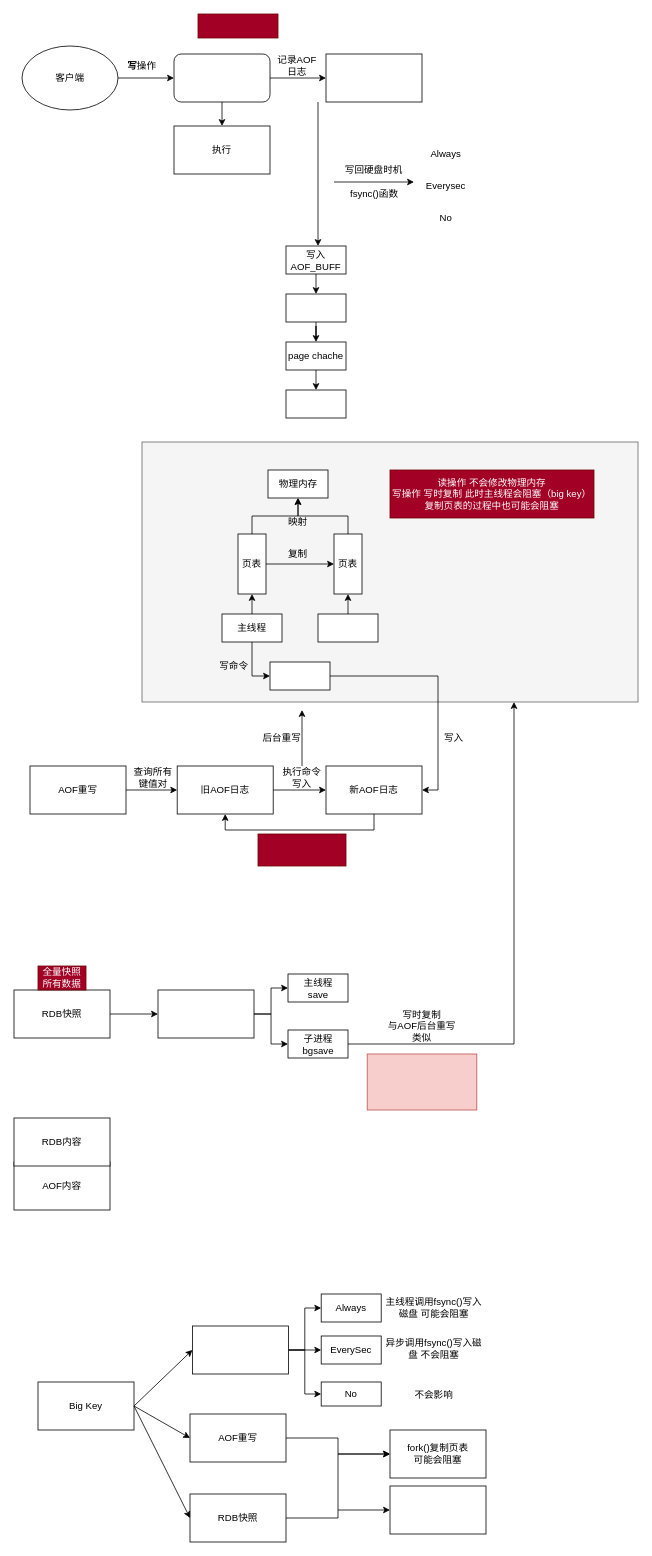
Some shapes in this 652 by 1556 pixel diagram are drawn without their labels. Here are the shapes that lost their labels. From the top down, the centre of each, then its label:
At point (237, 25): "先执行写操作 后写入AOF日志".
At point (221, 77): "Redis".
At point (373, 77): "磁盘".
At point (315, 307): "IO write".
At point (315, 403): "硬盘".
At point (347, 627): "子进程".
At point (299, 675): "AOF 重写缓冲区".
At point (301, 849): "覆盖 防止重写失败污染AOF日志".
At point (205, 1013): "生成".
At point (421, 1081): "主线程修改A 先复制一份A' 主线程对A'进行修改 子进程记录A".
At point (240, 1349): "AOF写入磁盘".
At point (437, 1509): "写时复制 可能会阻塞".
